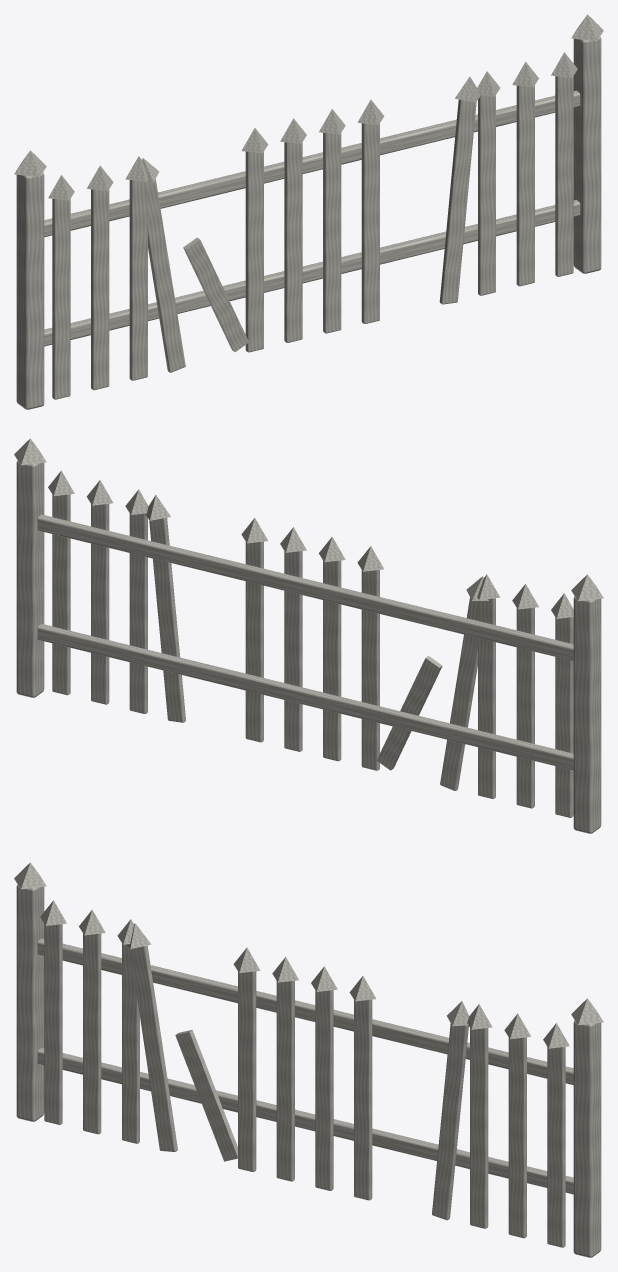
Rendered from halloween-slasher-street-picket-fence-run-67cea0c5__27281.glb.
3 renders of one model, top to bottom at view 1: azimuth 30°, elevation 25°; view 2: azimuth 150°, elevation 25°; view 3: azimuth 330°, elevation 25°, orthographic.
Visible parts, largest first — view 1: picket-fence-run; view 2: picket-fence-run; view 3: picket-fence-run.
Boxes of the visible parts, x1=… form: picket-fence-run: x1=14, y1=14, x2=603, y2=409; picket-fence-run: x1=14, y1=438, x2=603, y2=833; picket-fence-run: x1=14, y1=862, x2=603, y2=1257.
Bounding box in the file's own units: 3.05 × 1.26 × 0.1899.
Materials: 1 (1 with a texture image).
